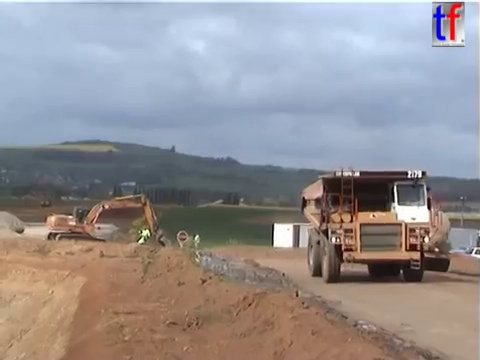excavator: (43, 191, 173, 254)
truck: (298, 166, 434, 284), (349, 192, 453, 275), (39, 197, 51, 207)
worker: (139, 224, 153, 247), (190, 230, 203, 252), (136, 230, 148, 251)
